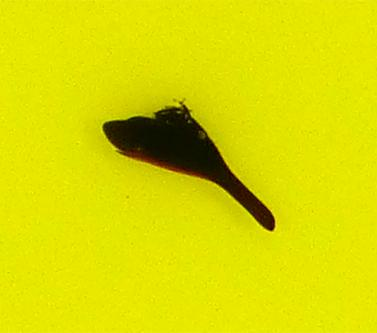Hemiptera: (100, 100, 277, 233)
